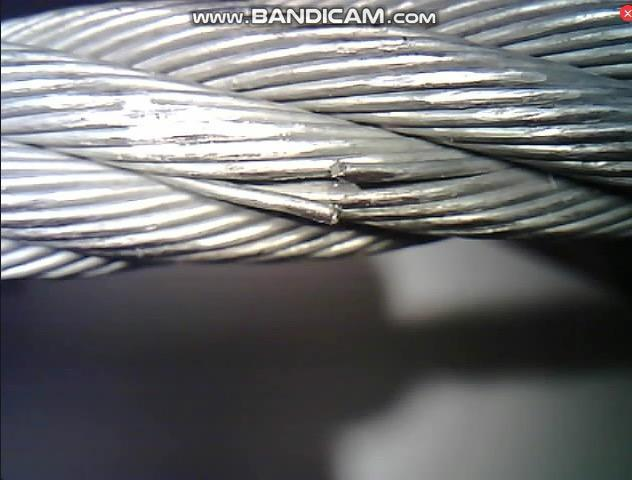break: (310, 155, 365, 231)
